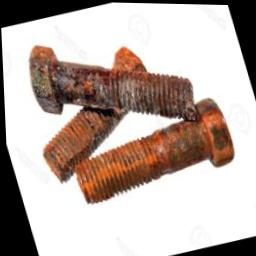Corroded-Bolt: (71, 97, 234, 205), (28, 45, 196, 122)
